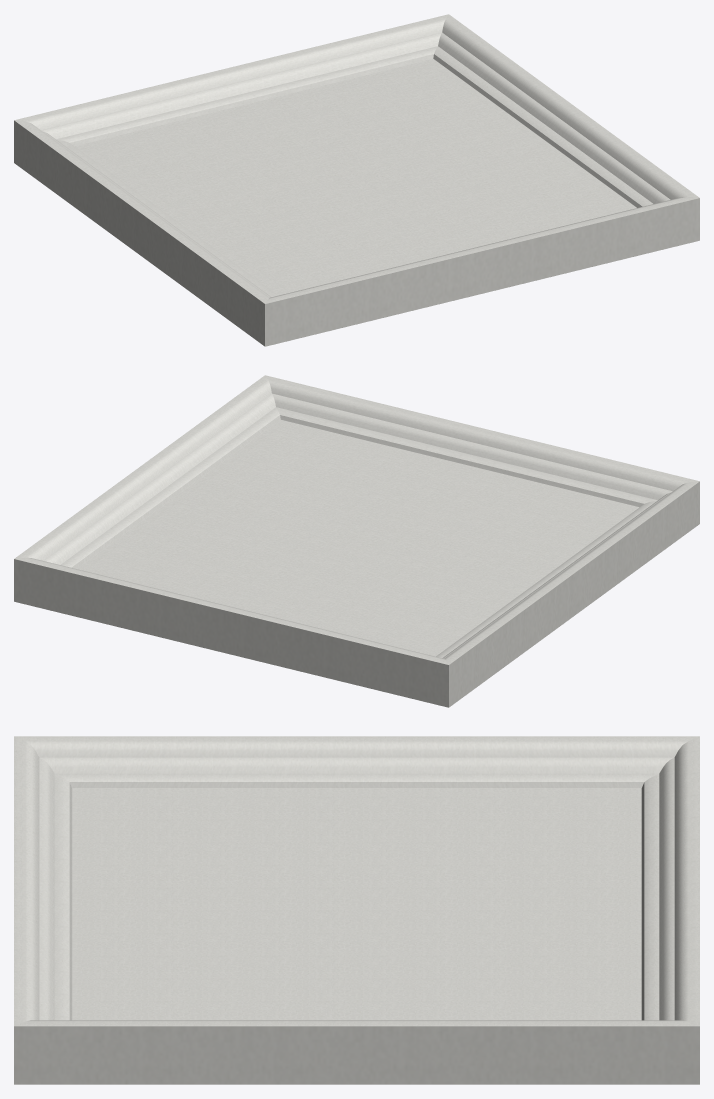
Rendered from ceiling_t.fbx.
3 views of the same model, one above another, from view 1: azimuth 30°, elevation 25°; view 2: azimuth 150°, elevation 25°; view 3: azimuth 270°, elevation 25° (orthographic). The views are drawn at different scales.
Visible parts, largest first — view 1: pCube1; view 2: pCube1; view 3: pCube1.
Part boxes in pixels (x1,y1,x2,y2): pCube1: (14,14,699,346); pCube1: (14,375,699,707); pCube1: (14,736,699,1084).
Size of the model in its own units: 8.93 by 0.8388 by 8.93.
Materials: 1 (1 with a texture image).
